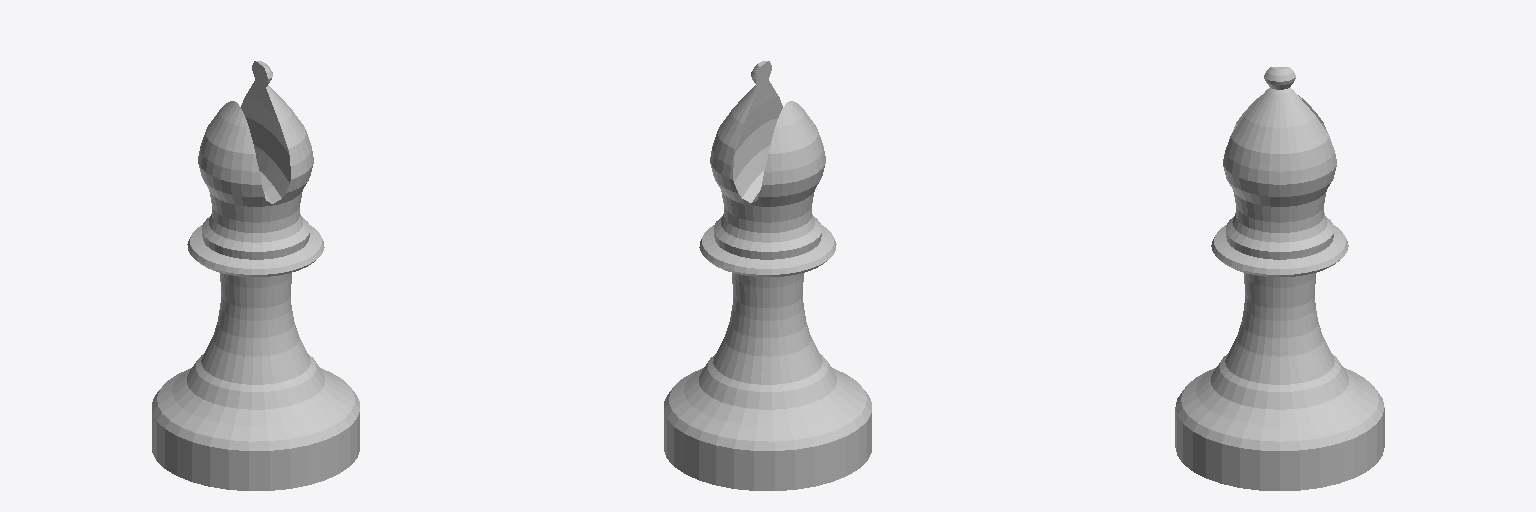
Rendered from bishop.obj.
The picture shows the model from 3 angles: view 1: azimuth 30°, elevation 25°; view 2: azimuth 150°, elevation 25°; view 3: azimuth 270°, elevation 25°; orthographic projection.
Parts seen in each view (by area): view 1: bishop; view 2: bishop; view 3: bishop.
Part boxes in pixels (x1,y1,x2,y2): bishop: (152, 61, 359, 490); bishop: (664, 61, 871, 490); bishop: (1175, 67, 1384, 490).
Size of the model in its own units: 0.657 by 1.33 by 0.657.